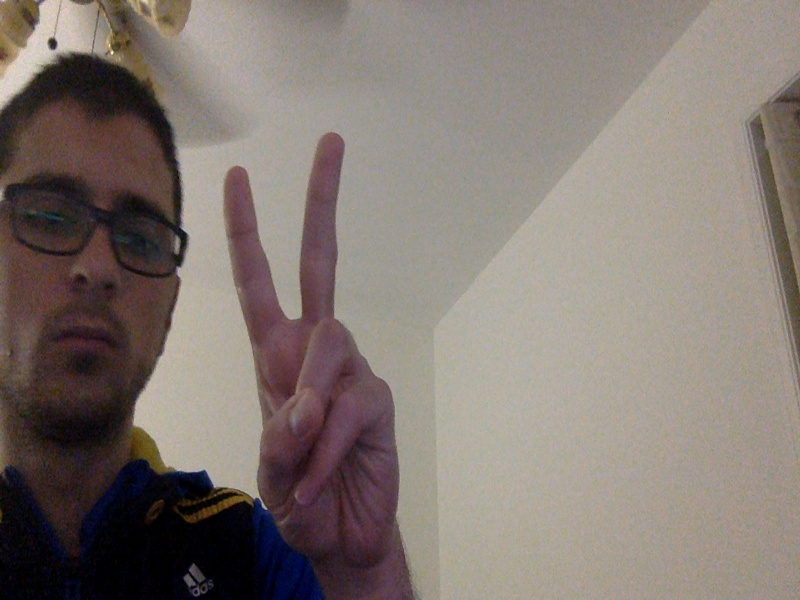2-hand: (221, 132, 402, 569)
